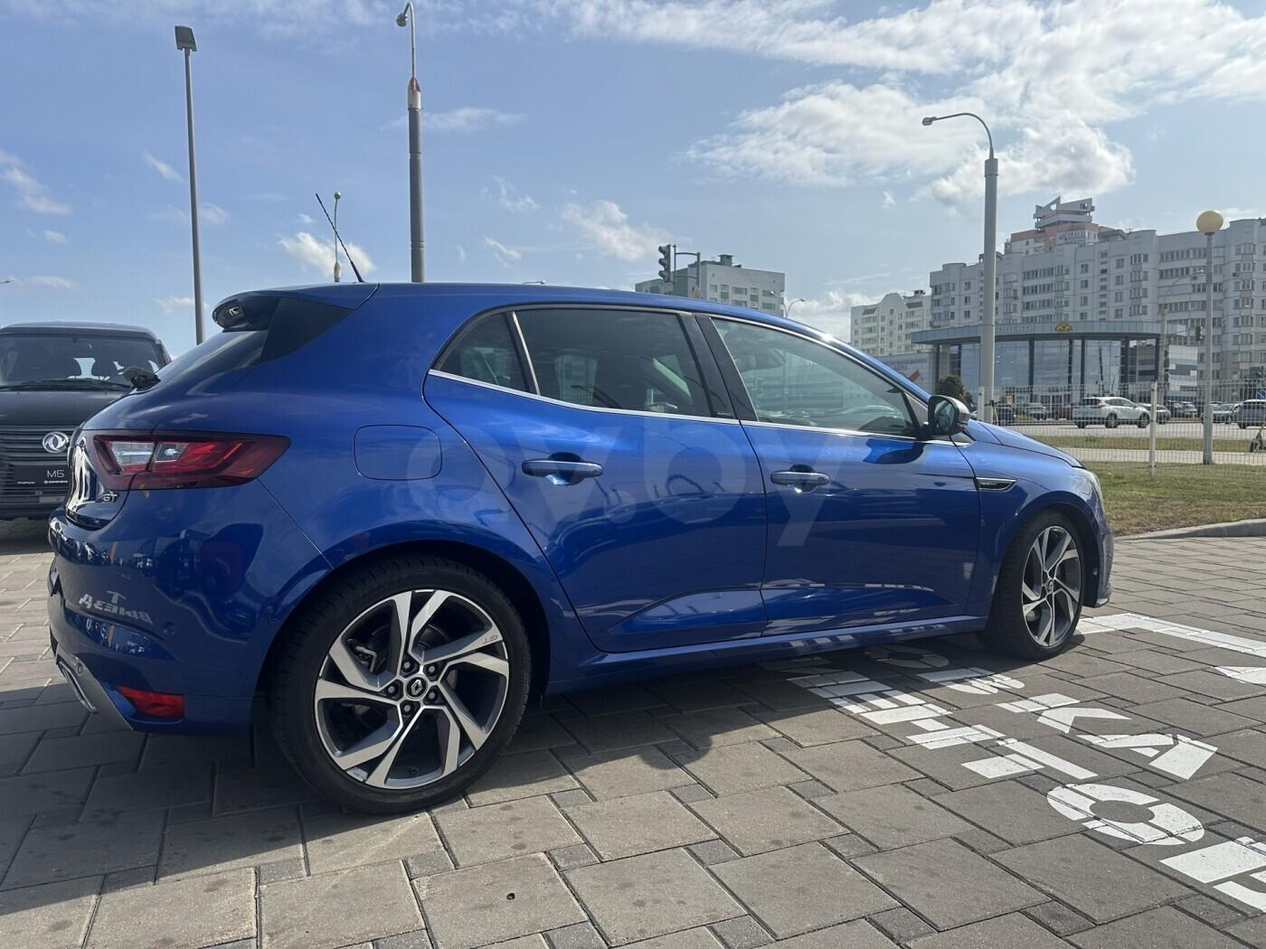Megane_2016-2020: (27, 269, 1128, 804)
